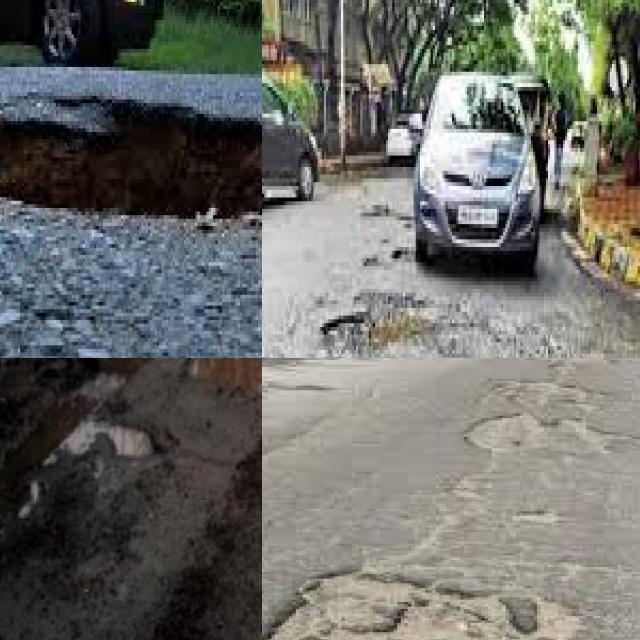Pothole: (0, 78, 262, 221), (262, 548, 331, 640), (318, 304, 435, 350), (179, 358, 262, 405), (380, 593, 462, 640), (59, 422, 162, 458), (530, 597, 583, 640)
